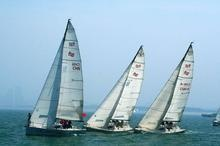fanchuan: (21, 18, 85, 137), (137, 41, 201, 134), (85, 44, 148, 133)
